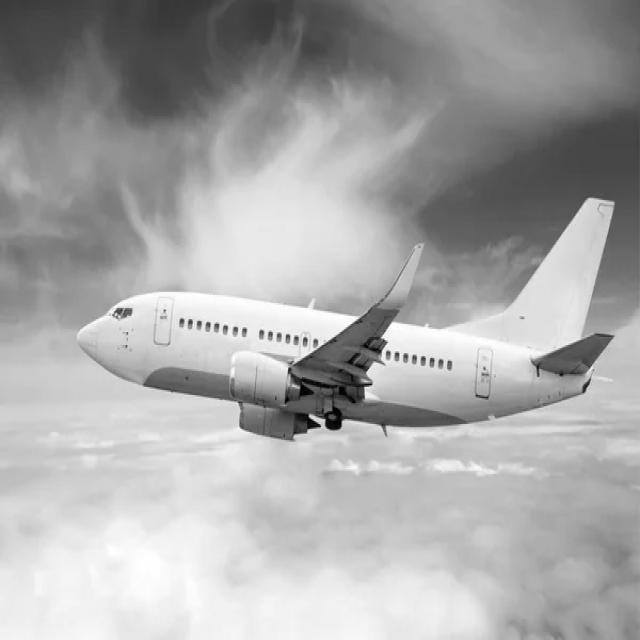Aircraft: (74, 192, 628, 442)
